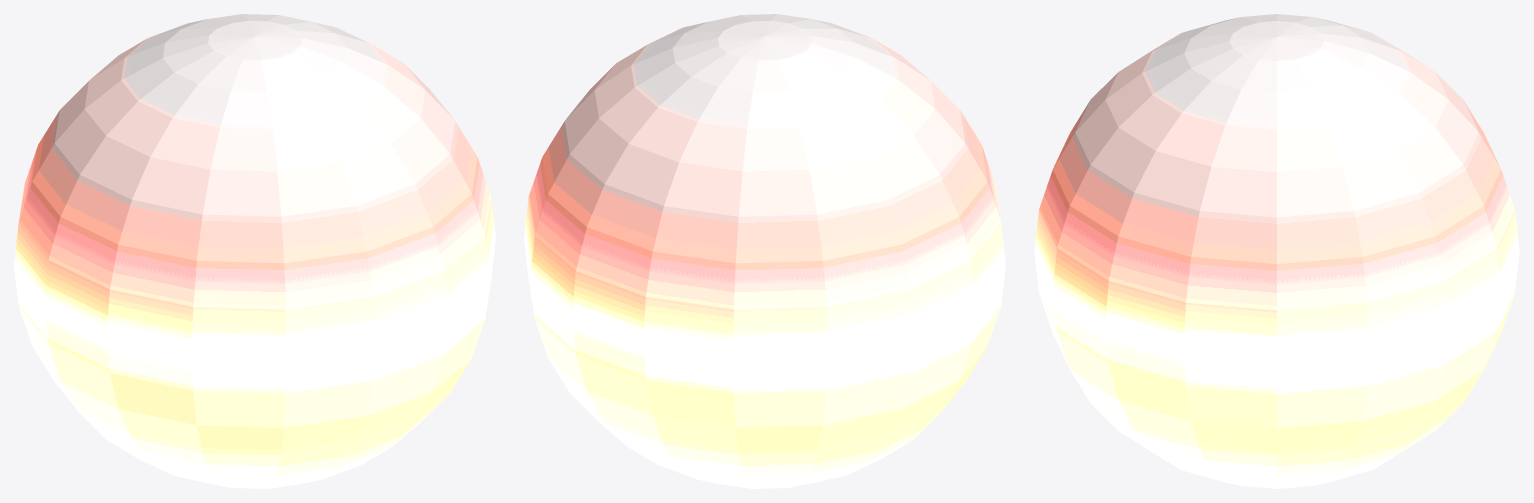
Rendered from MetaScreen_skytest2_old.glb.
3 views of the same model, side by side, from view 1: azimuth 30°, elevation 25°; view 2: azimuth 150°, elevation 25°; view 3: azimuth 270°, elevation 25° (orthographic).
Parts seen in each view (by area): view 1: Sphere; view 2: Sphere; view 3: Sphere.
Part boxes in pixels (box(x1,y1,x2,y2)): Sphere: box(14, 14, 495, 488); Sphere: box(524, 14, 1005, 488); Sphere: box(1034, 14, 1519, 488).
Size of the model in its own units: 318 by 310 by 318.
